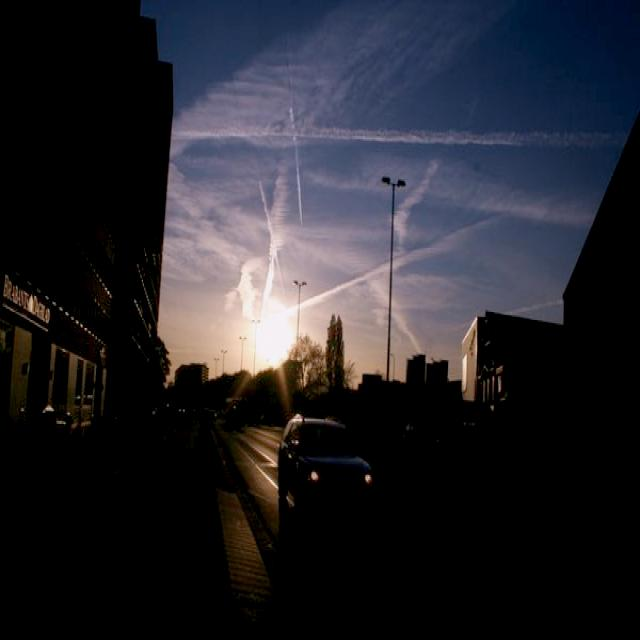Car: (275, 404, 378, 530)
